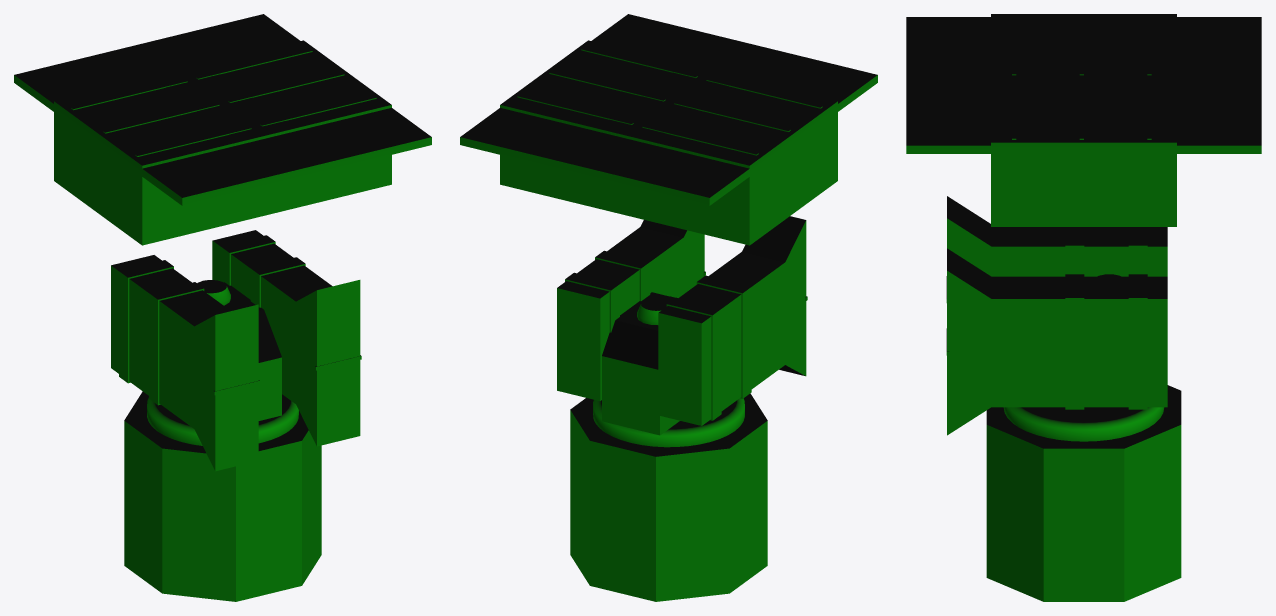
The model's file is lrmpopup.glb.
3 renders of one model, left to right at view 1: azimuth 30°, elevation 25°; view 2: azimuth 150°, elevation 25°; view 3: azimuth 270°, elevation 25°, orthographic. The views are drawn at different scales.
Visible parts, largest first — view 1: lod0_Gun, lod0_Base, lod0_Pop, lod0_pop_door_l, lod0_pop_door_r, lod0_Turret, lod1_Gun; view 2: lod0_Base, lod0_Gun, lod0_Pop, lod0_pop_door_l, lod0_pop_door_r, lod0_Turret; view 3: lod0_Gun, lod0_Base, lod0_Pop, lod0_pop_door_r, lod0_pop_door_l, lod0_Turret, lod1_Turret.
Boxes of the visible parts, x1,y1,x2,y2 form: lod0_Gun: [111, 230, 361, 471]; lod0_Base: [14, 14, 431, 245]; lod0_Pop: [124, 391, 321, 601]; lod0_pop_door_l: [54, 71, 266, 172]; lod0_pop_door_r: [179, 40, 391, 136]; lod0_Turret: [147, 280, 298, 445]; lod1_Gun: [218, 295, 357, 455]; lod0_Base: [460, 14, 877, 245]; lod0_Gun: [557, 216, 807, 425]; lod0_Pop: [570, 393, 767, 601]; lod0_pop_door_l: [625, 71, 837, 172]; lod0_pop_door_r: [500, 40, 712, 137]; lod0_Turret: [593, 292, 744, 447]; lod0_Gun: [946, 196, 1167, 435]; lod0_Base: [906, 17, 1261, 226]; lod0_Pop: [986, 385, 1181, 601]; lod0_pop_door_r: [991, 78, 1176, 150]; lod0_pop_door_l: [991, 14, 1176, 78]; lod0_Turret: [1003, 274, 1164, 441]; lod1_Turret: [1005, 407, 1162, 439].
Bounding box in the file's own units: 7.2 × 12.63 × 8.4.
